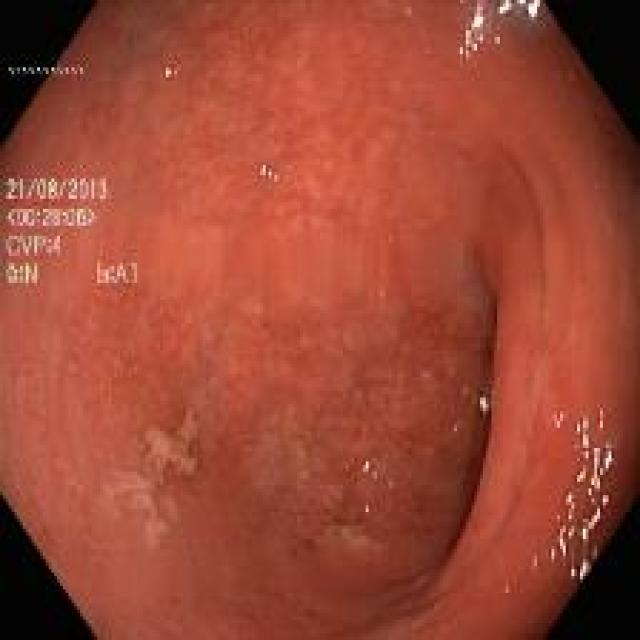ulcerative-colitis-grade-1: (0, 0, 640, 637)
